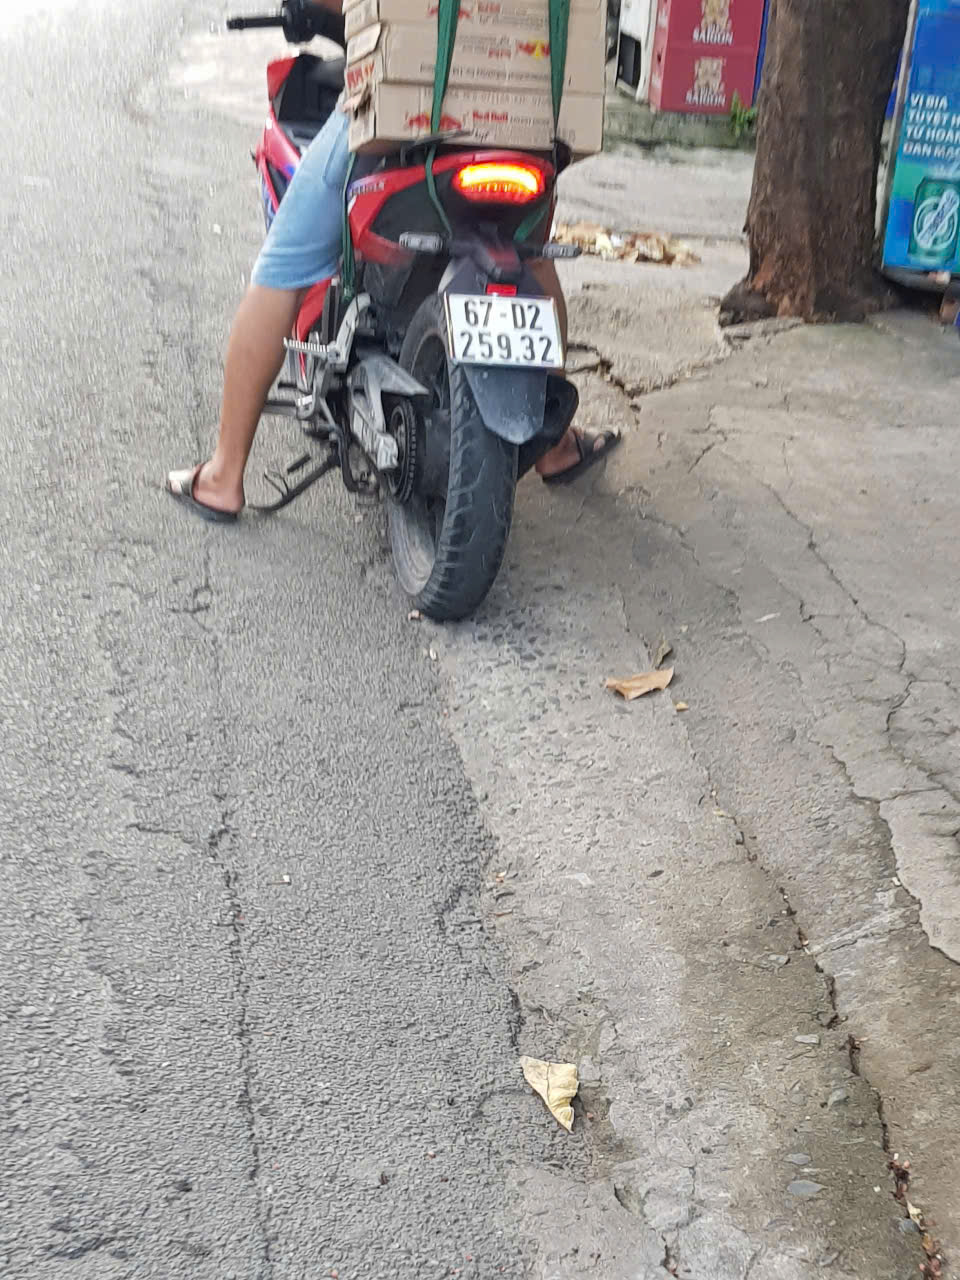bien_so: (445, 294, 565, 367)
